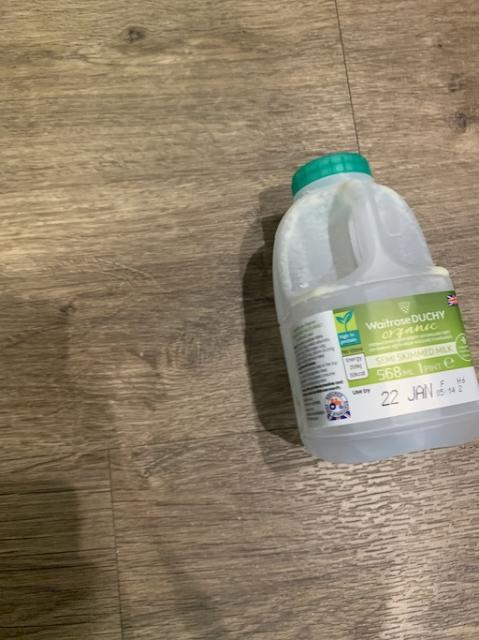plastic: (273, 152, 477, 461)
